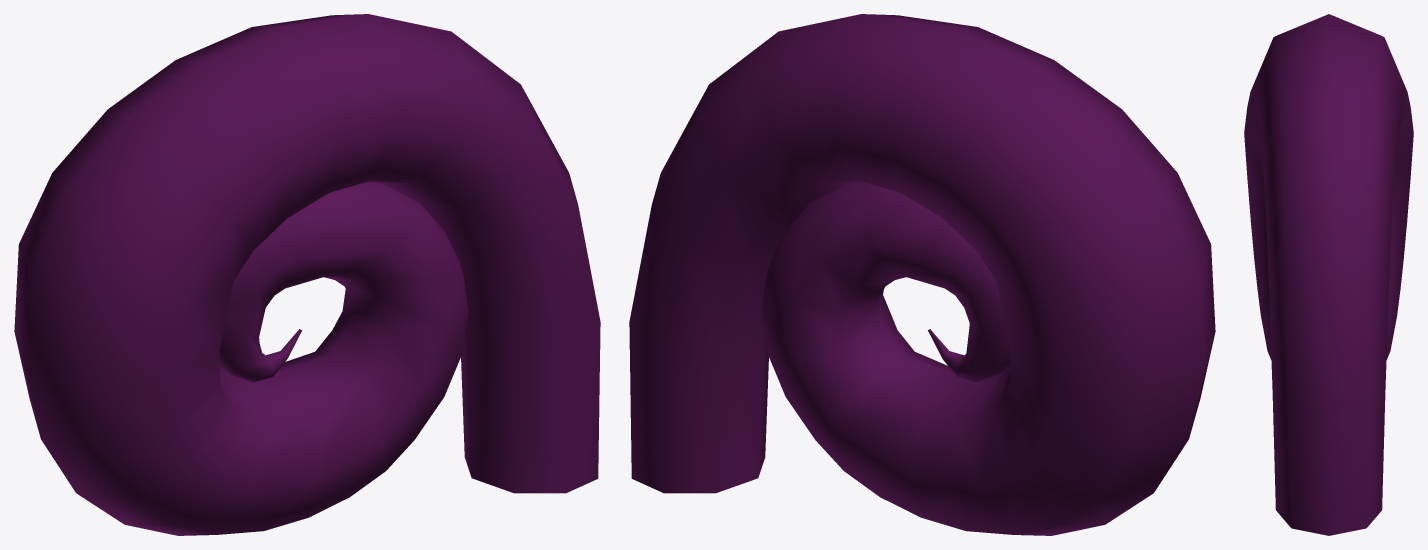
File: bush-3.glb
The picture shows the model from 3 angles, left to right: view 1: azimuth 30°, elevation 25°; view 2: azimuth 150°, elevation 25°; view 3: azimuth 270°, elevation 25°; orthographic projection. The views are drawn at different scales.
Visible parts, largest first — view 1: Bush_3; view 2: Bush_3; view 3: Bush_3.
Boxes of the visible parts, x1,y1,x2,y2 form: Bush_3: (14, 14, 600, 535); Bush_3: (629, 14, 1215, 535); Bush_3: (1244, 14, 1413, 535).
Bounding box in the file's own units: 1.86 × 1.58 × 0.6274.
